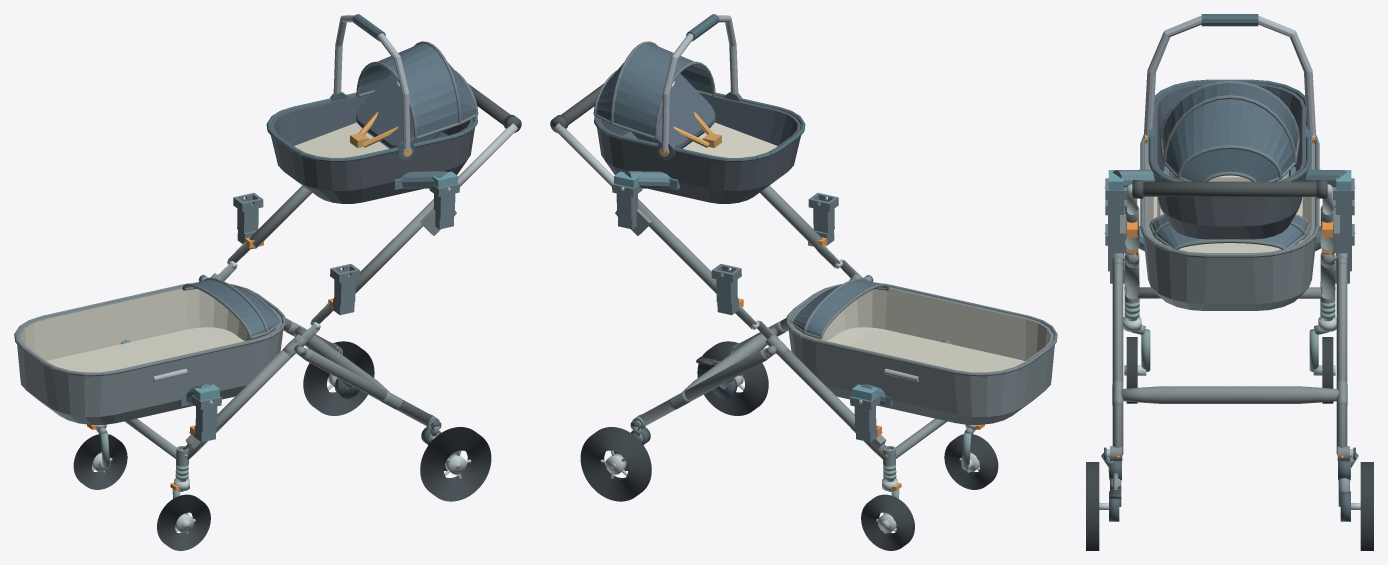
File: D07_w550_state1_wheel_S.glb
3 views of the same model, side by side, from view 1: azimuth 30°, elevation 25°; view 2: azimuth 150°, elevation 25°; view 3: azimuth 270°, elevation 25° (orthographic). The views are drawn at different scales.
Parts seen in each view (by area): view 1: D07_Lower, D07_Upper, RL_tire.002, RR_tire.002, FL_tire.002, FR_tire.002, V46_rear_leg_-1.003, main_lower_-1.003, main_upper_-1.003, Universal_Cabin_Receiver_M_-1, Universal_Cabin_Receiver_M_1, D07_Upper_Mount_H (+6 smaller); view 2: D07_Lower, D07_Upper, RR_tire.002, RL_tire.002, FR_tire.002, FL_tire.002, V46_rear_leg_1.003, main_lower_1.003, main_upper_1.003, Universal_Cabin_Receiver_M_1, Universal_Cabin_Receiver_M_-1, D07_Upper_Mount_H (+6 smaller); view 3: D07_Upper, D07_Lower, V46_rearbar.003, round_handle.002, V46_rear_leg_1.003, V46_rear_leg_-1.003, D07_Upper_Mount_H, RL_tire.002, RR_tire.002, Universal_Cabin_Receiver_H_1, Universal_Cabin_Receiver_H_-1, FL_tire.002 (+8 smaller).
Boxes of the visible parts, x1,y1,x2,y2 form: D07_Lower: (14,277,285,424); D07_Upper: (266,14,478,203); RL_tire.002: (420,427,491,501); RR_tire.002: (303,341,374,415); FL_tire.002: (157,494,210,550); FR_tire.002: (73,434,127,489); V46_rear_leg_-1.003: (303,349,432,425); main_lower_-1.003: (183,350,294,459); main_upper_-1.003: (355,199,433,293); Universal_Cabin_Receiver_M_-1: (330,264,360,315); Universal_Cabin_Receiver_M_1: (233,193,263,243); D07_Upper_Mount_H: (391,171,457,190); D07_Lower: (786,277,1057,424); D07_Upper: (593,14,805,203); RR_tire.002: (580,427,651,501); RL_tire.002: (697,341,768,415); FR_tire.002: (861,494,914,550); FL_tire.002: (944,434,998,489); V46_rear_leg_1.003: (639,349,768,425); main_lower_1.003: (777,350,888,459); main_upper_1.003: (638,199,716,293); Universal_Cabin_Receiver_M_1: (711,264,741,315); Universal_Cabin_Receiver_M_-1: (808,193,838,245); D07_Upper_Mount_H: (614,171,680,190); D07_Upper: (1143,14,1316,239); D07_Lower: (1140,134,1319,310); V46_rearbar.003: (1121,386,1338,403); round_handle.002: (1132,181,1327,196); V46_rear_leg_1.003: (1336,262,1347,455); V46_rear_leg_-1.003: (1112,262,1123,455); D07_Upper_Mount_H: (1104,167,1355,190); RL_tire.002: (1086,462,1099,550); RR_tire.002: (1360,462,1373,550); Universal_Cabin_Receiver_H_1: (1333,178,1354,237); Universal_Cabin_Receiver_H_-1: (1105,178,1126,237); FL_tire.002: (1126,337,1137,403).
Size of the model in its own units: 1.37 by 1.28 by 0.6471.
